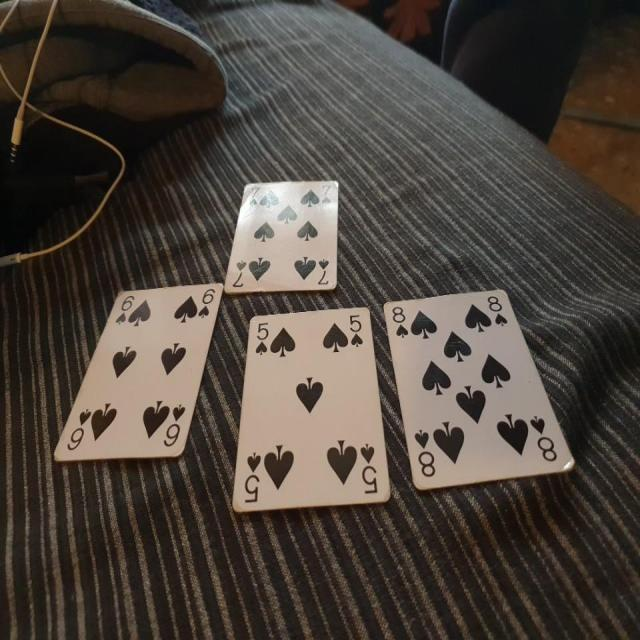5 Spades: (236, 304, 394, 529)
6 Spades: (48, 284, 217, 464)
7 Spades: (220, 163, 343, 304)
8 Spades: (380, 284, 580, 514)
